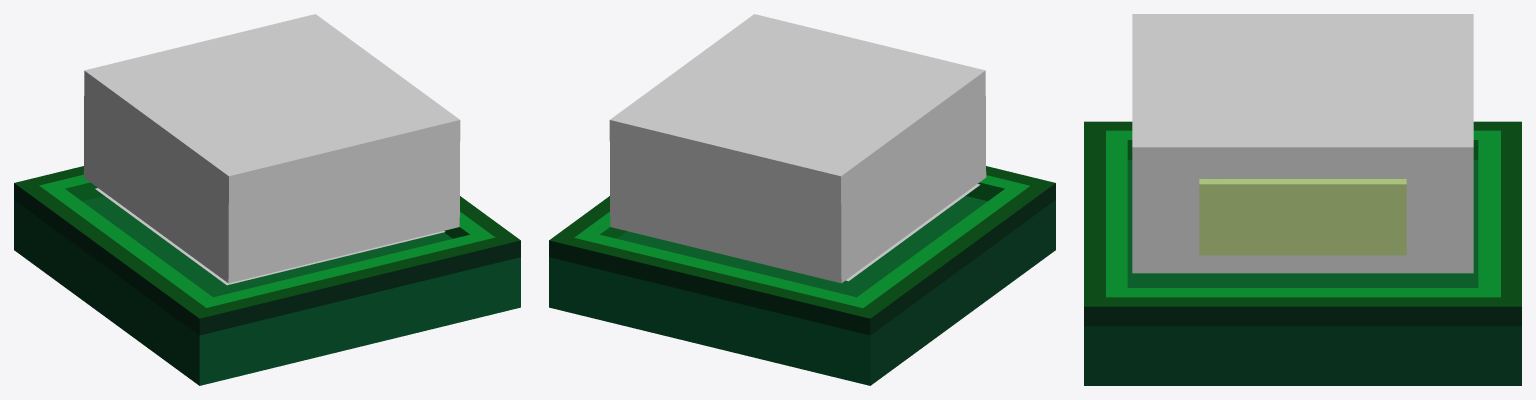
Rendered from Tower_Goo.fbx.
The picture shows the model from 3 angles, left to right: view 1: azimuth 30°, elevation 25°; view 2: azimuth 150°, elevation 25°; view 3: azimuth 270°, elevation 25°; orthographic projection. The views are drawn at different scales.
Parts seen in each view (by area): view 1: Stroke, Base, Shadow; view 2: Stroke, Base, Shadow; view 3: Stroke, Base, HairTop.
Part boxes in pixels (<box>): Stroke: <box>83,14,460,283</box>; Base: <box>14,166,520,385</box>; Shadow: <box>95,188,445,285</box>; Stroke: <box>609,14,986,283</box>; Base: <box>549,166,1055,385</box>; Shadow: <box>846,184,980,281</box>; Stroke: <box>1132,14,1473,273</box>; Base: <box>1084,121,1521,385</box>; HairTop: <box>1199,179,1406,255</box>.
Bounding box in the file's own units: 100 × 54.3 × 100.
